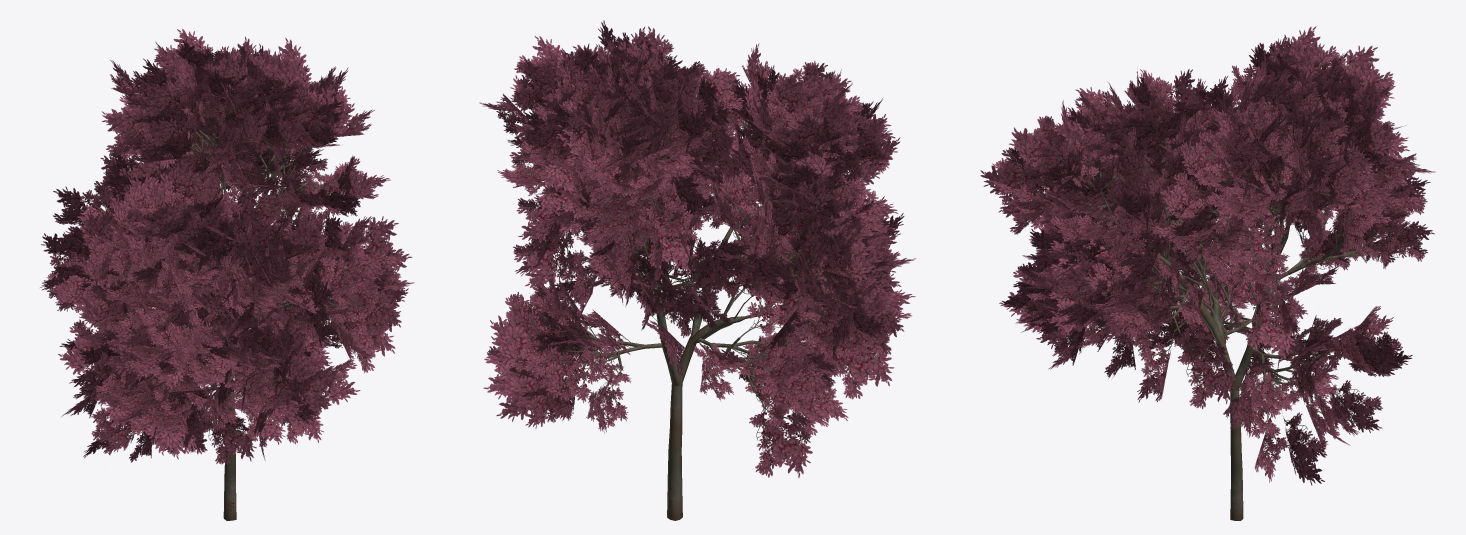
File: forest-plum-tree-v1-optimized.glb
The picture shows the model from 3 angles, left to right: view 1: azimuth 30°, elevation 25°; view 2: azimuth 150°, elevation 25°; view 3: azimuth 270°, elevation 25°; orthographic projection. The views are drawn at different scales.
Visible parts, largest first — view 1: PlumTree; view 2: PlumTree; view 3: PlumTree.
Boxes of the visible parts, x1,y1,x2,y2 form: PlumTree: (40,29,414,520); PlumTree: (479,20,915,520); PlumTree: (980,26,1435,520).
Bounding box in the file's own units: 3.16 × 3.8 × 3.41.
Materials: 2 (2 with a texture image).
